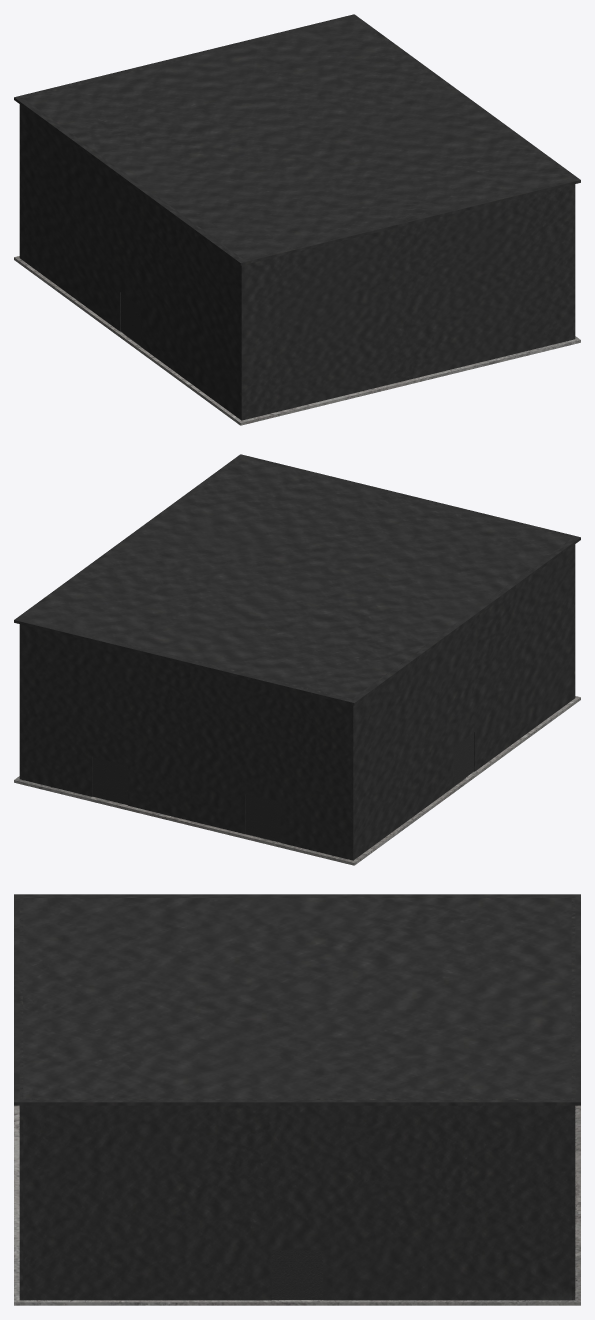
Rendered from StageModel.fbx.
The picture shows the model from 3 angles, top to bottom: view 1: azimuth 30°, elevation 25°; view 2: azimuth 150°, elevation 25°; view 3: azimuth 270°, elevation 25°; orthographic projection. The views are drawn at different scales.
Parts seen in each view (by area): view 1: polySurface88, polySurface78, polySurface80, polySurface77, polySurface79, polySurface83; view 2: polySurface88, polySurface79, polySurface80, polySurface77, polySurface78, polySurface9, polySurface5, polySurface6, polySurface10; view 3: polySurface88, polySurface83, polySurface77, polySurface78, polySurface79, polySurface13, polySurface16, polySurface80.
Boxes of the visible parts, x1,y1,x2,y2 form: polySurface88: [14, 14, 580, 265]; polySurface78: [240, 178, 575, 420]; polySurface80: [19, 98, 244, 419]; polySurface77: [14, 256, 580, 425]; polySurface79: [19, 17, 353, 258]; polySurface83: [352, 17, 575, 339]; polySurface88: [14, 454, 580, 705]; polySurface79: [19, 620, 354, 860]; polySurface80: [350, 538, 574, 860]; polySurface77: [14, 696, 580, 865]; polySurface78: [241, 457, 575, 698]; polySurface9: [92, 757, 110, 800]; polySurface5: [245, 794, 263, 837]; polySurface6: [263, 799, 280, 842]; polySurface10: [110, 761, 127, 804]; polySurface88: [14, 894, 580, 1105]; polySurface83: [22, 1098, 575, 1300]; polySurface77: [14, 1105, 580, 1305]; polySurface78: [19, 896, 23, 1300]; polySurface79: [571, 896, 575, 1300]; polySurface13: [271, 1250, 297, 1299]; polySurface16: [297, 1250, 323, 1299]; polySurface80: [19, 896, 574, 897].
Bounding box in the file's own units: 0.2672 × 0.122 × 0.308.
Materials: 6 (3 with a texture image).
